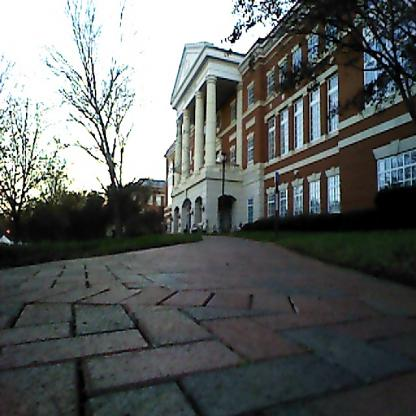Edge: (231, 230, 416, 291), (0, 234, 202, 273)
Sidewalk: (0, 237, 416, 416)
